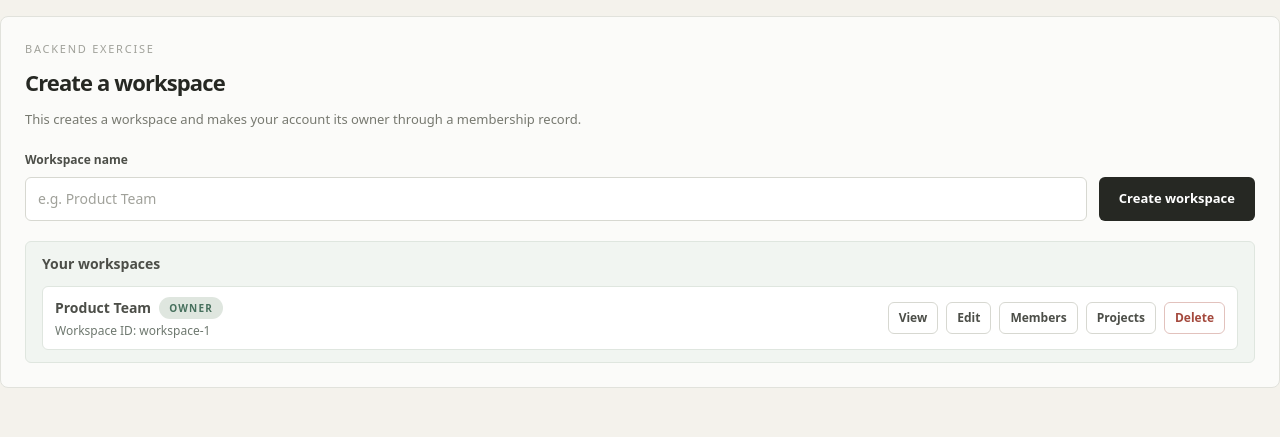
Test case: WorkspaceCreator › updates a workspace name and refreshes the list
Expected: the text "Product Team" is shown, [55,298,151,318]
Click the button with aria-label "Edit Product Team".
click(969, 318)  # box [946,302,991,334]
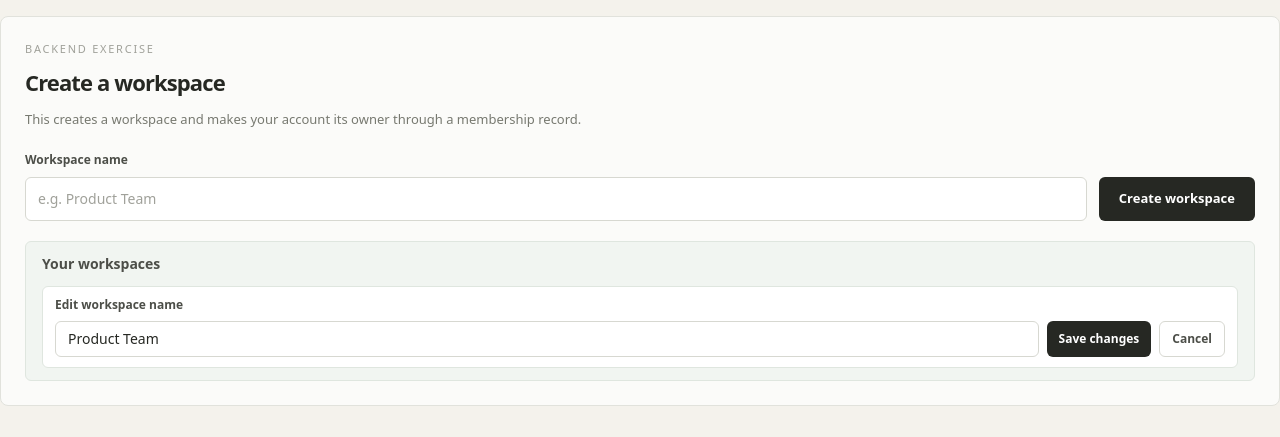
Replace the text in the field labelled "Edit workspace name" with "Product Team Renamed" at {"x": 547, "y": 338}, box [55,320,1038,356]
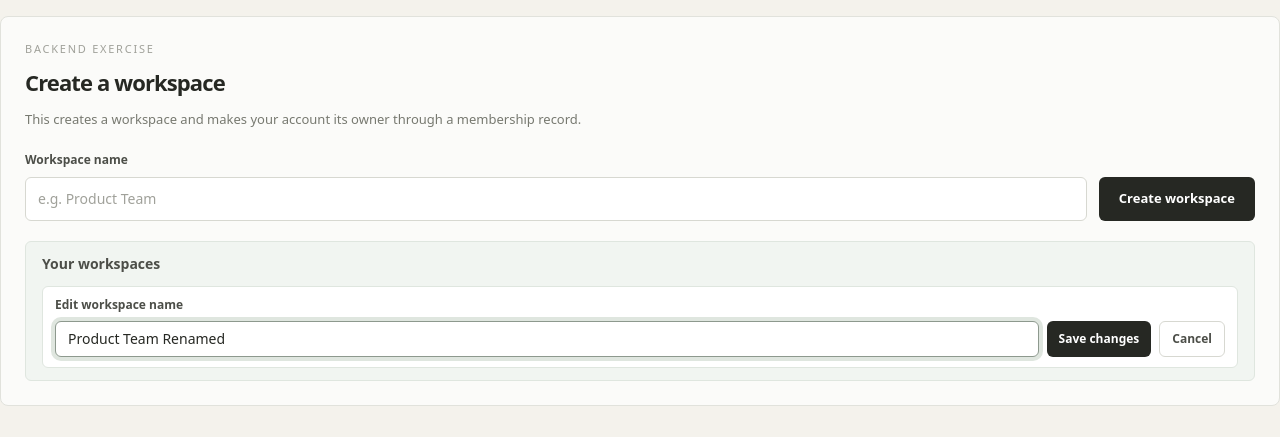
Click the button "Save changes".
click(1099, 338)  # box [1046,320,1151,356]
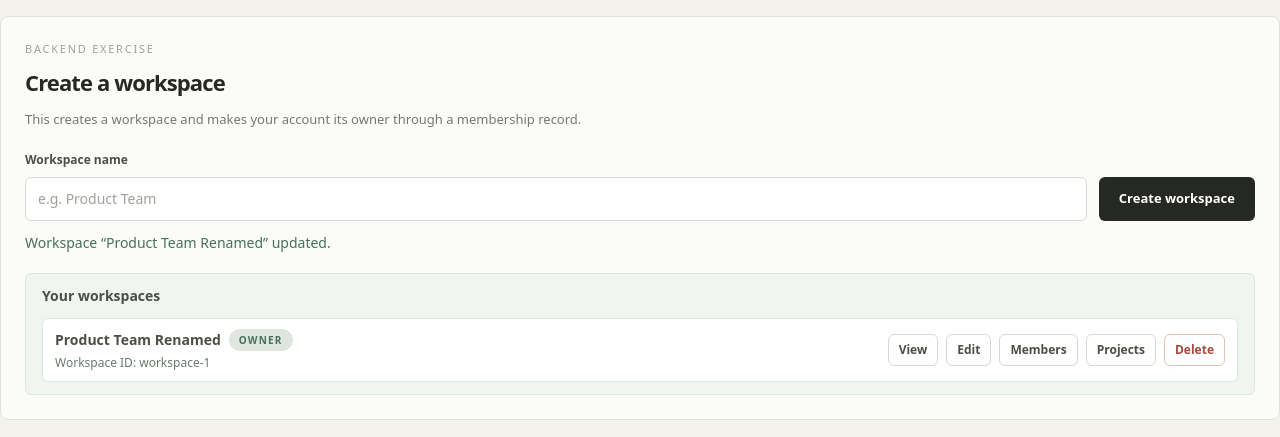
Result: the text "Product Team Renamed" is shown at [55,330,221,350]
